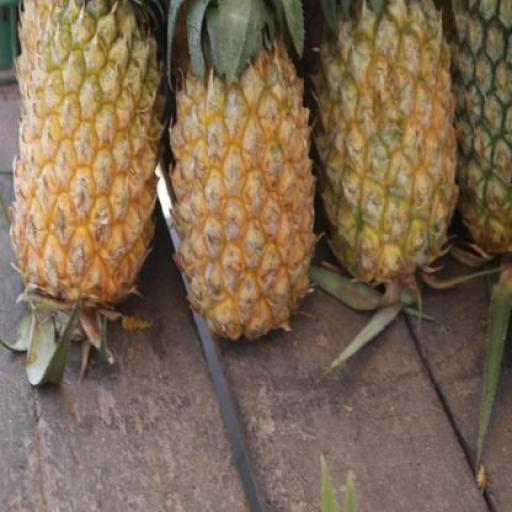------------------------------: (321, 0, 452, 281)
Pineapple - v8 v1: (171, 34, 320, 335), (14, 0, 158, 311)
